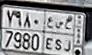0: (31, 18, 40, 51)
7: (6, 10, 13, 47)
8: (23, 12, 30, 50)
9: (14, 11, 22, 49)
E: (46, 16, 53, 51)
J: (64, 17, 72, 51)
S: (55, 20, 63, 51)
